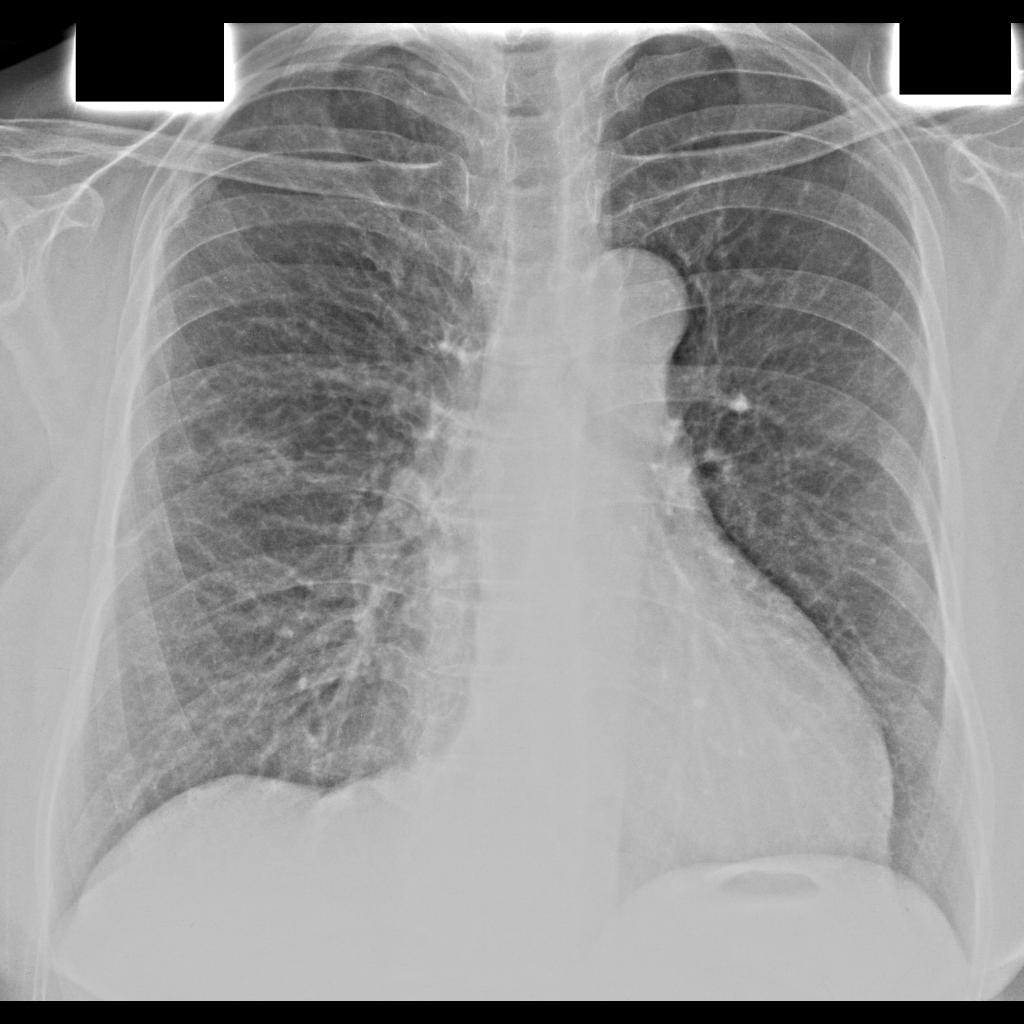Nodule: (203, 414, 305, 516)
